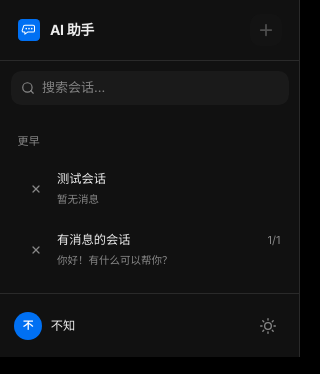
Scenario: conversationList (additional) › 搜索过滤会话
Type "有消息" into the field with placeholder "搜索会话..." at (150, 88), box left=10, top=71, right=288, bottom=104
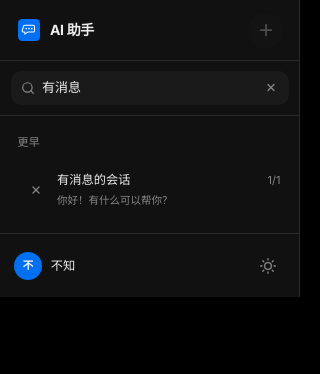
Check: the text "有消息的会话" is shown, box left=57, top=171, right=130, bottom=189
Check: the button "测试会话" is gone
